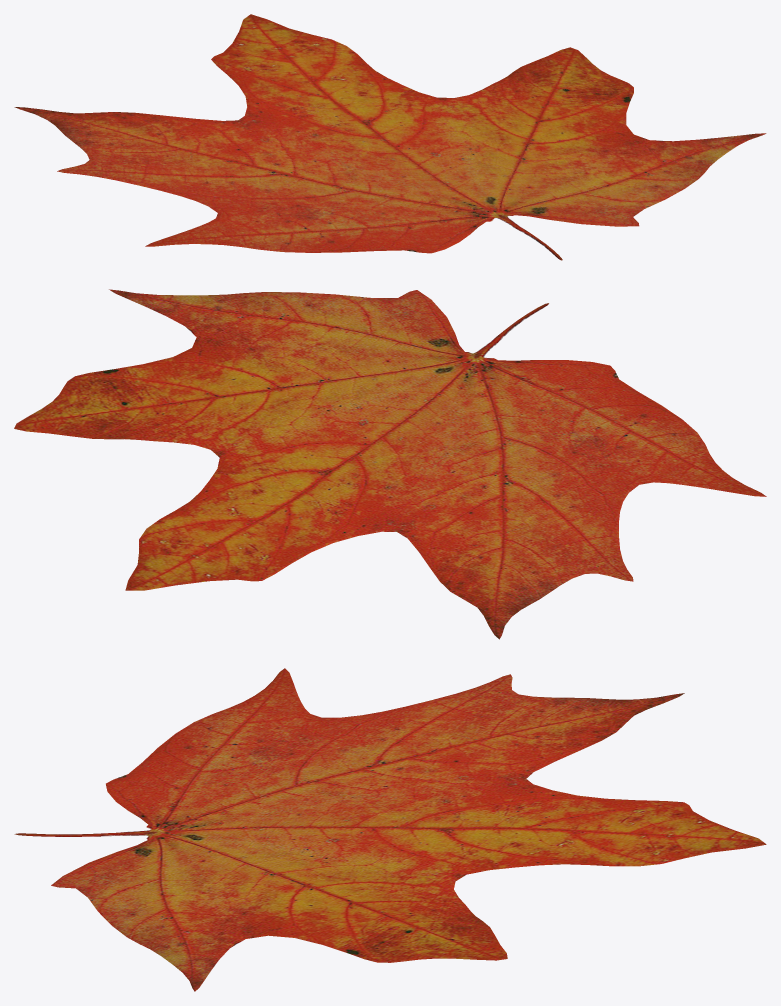
The model's file is leaf_sub.fbx.
The picture shows the model from 3 angles, top to bottom: view 1: azimuth 30°, elevation 25°; view 2: azimuth 150°, elevation 25°; view 3: azimuth 270°, elevation 25°; orthographic projection. The views are drawn at different scales.
Visible parts, largest first — view 1: leaf; view 2: leaf; view 3: leaf.
Boxes of the visible parts, <box> form: leaf: <box>14,14,766,260</box>; leaf: <box>14,289,766,639</box>; leaf: <box>14,668,766,991</box>.
Bounding box in the file's own units: 473 × 1 × 465.
